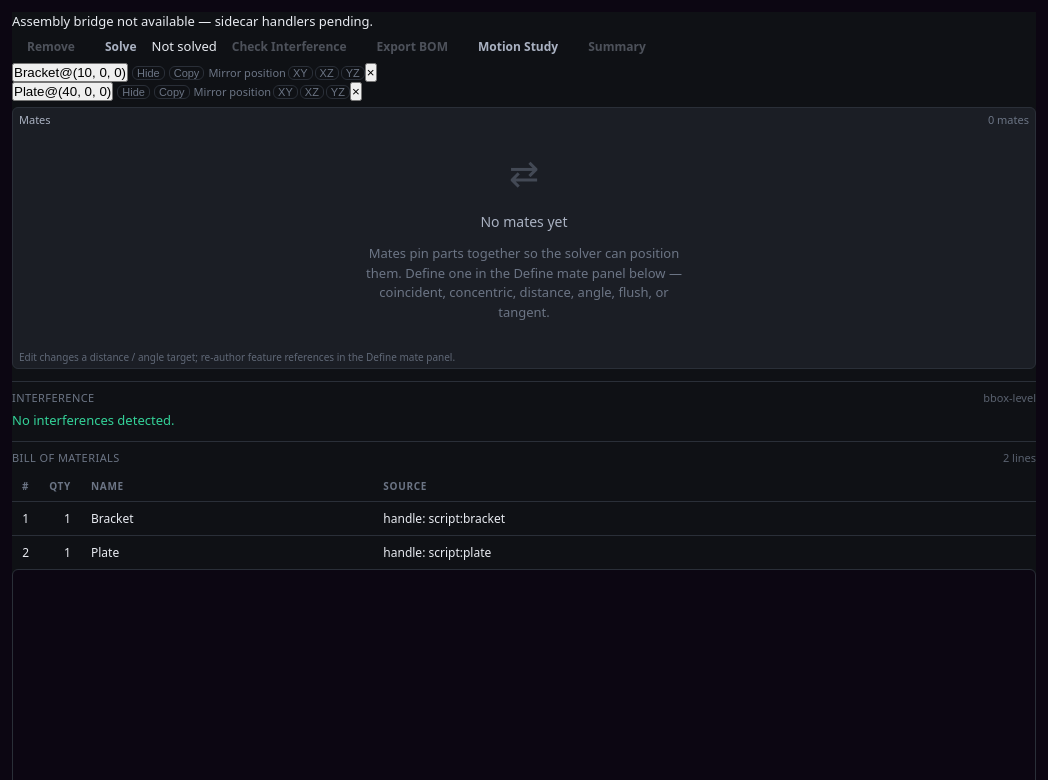
Test: AssemblyView (DOM) — Visibility eye toggle (view-only) › the eye toggle flips its aria-pressed + Hide/Show label
Click the button with test id "design-assembly-part-p1-visibility" at (148, 73), box [132,66,165,80]
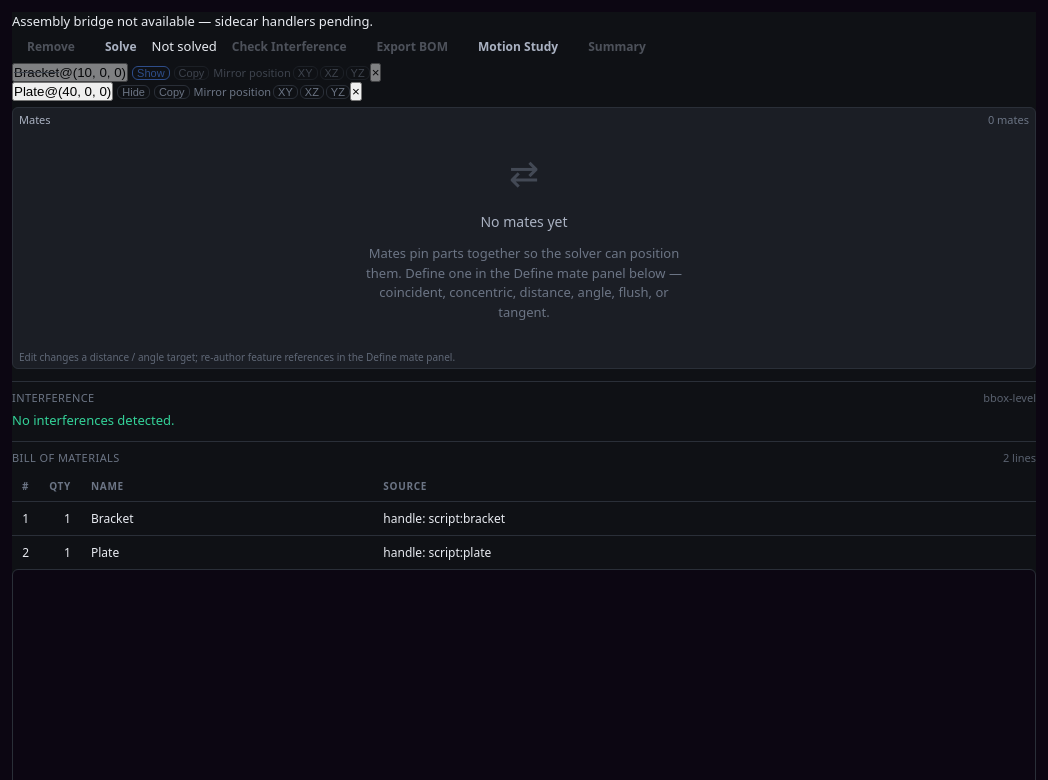
Check: the button with test id "design-assembly-part-p1-visibility" reads "Show", box [132,66,170,80]
